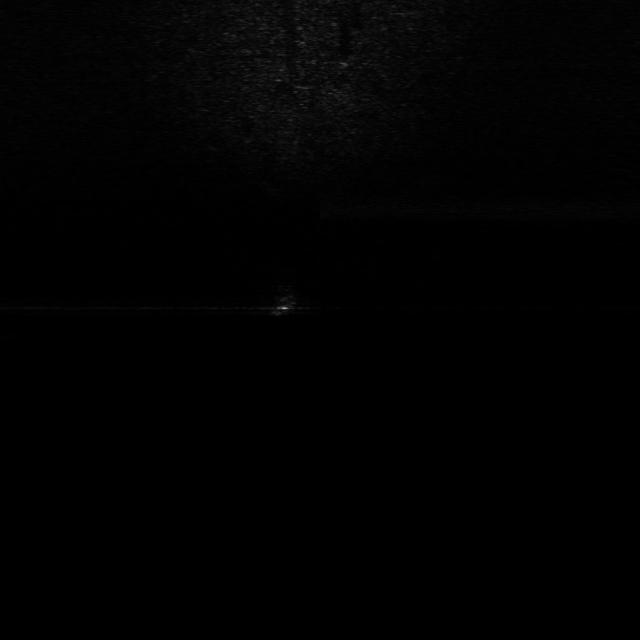human body: (266, 279, 306, 325)
